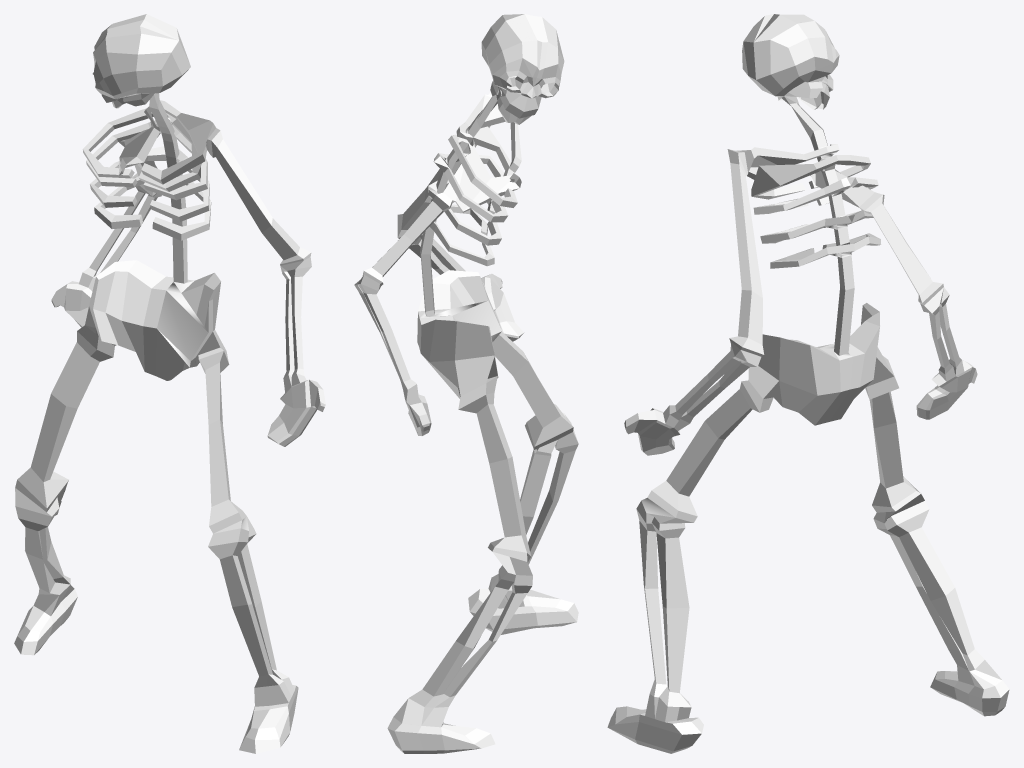
File: SkeletonIdle(62).obj
3 views of the same model, side by side, from view 1: azimuth 30°, elevation 25°; view 2: azimuth 150°, elevation 25°; view 3: azimuth 270°, elevation 25° (orthographic). The views are drawn at different scales.
Parts seen in each view (by area): view 1: Object002; view 2: Object002; view 3: Object002.
Part boxes in pixels (bbox=[...]): Object002: bbox=[14, 14, 325, 753]; Object002: bbox=[354, 14, 578, 753]; Object002: bbox=[607, 14, 1009, 753].
Bounding box in the file's own units: 374 × 1125 × 591.
